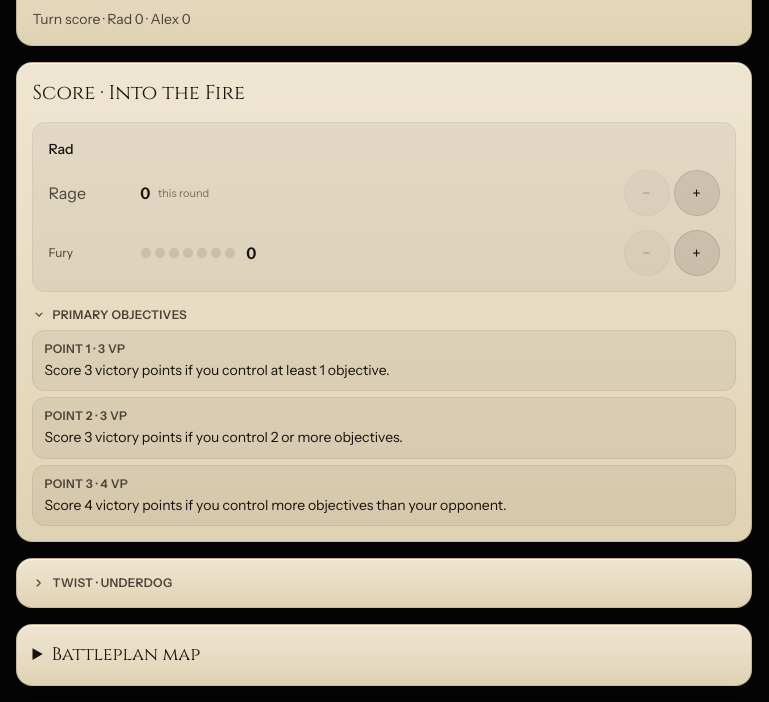
BattleRecordGameScreen › scores mission points one by one and shows twist for underdog
(page scrolled)
Expected: the heading "Score · Into the Fire" is shown, [32,79,245,106]
Expected: the heading "Twist · underdog" is shown, [32,575,172,590]
Click the button with aria-label "Rad scored point 1": [384, 361] box [32,331,734,390]
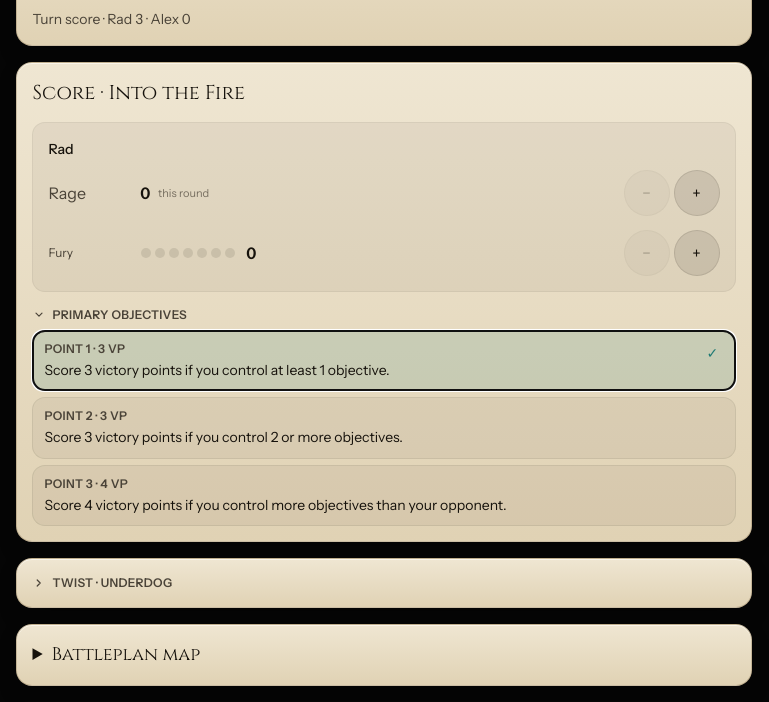
Expected: the text "Turn score · Rad 3 · Alex 0" is shown, [32,10,190,28]
